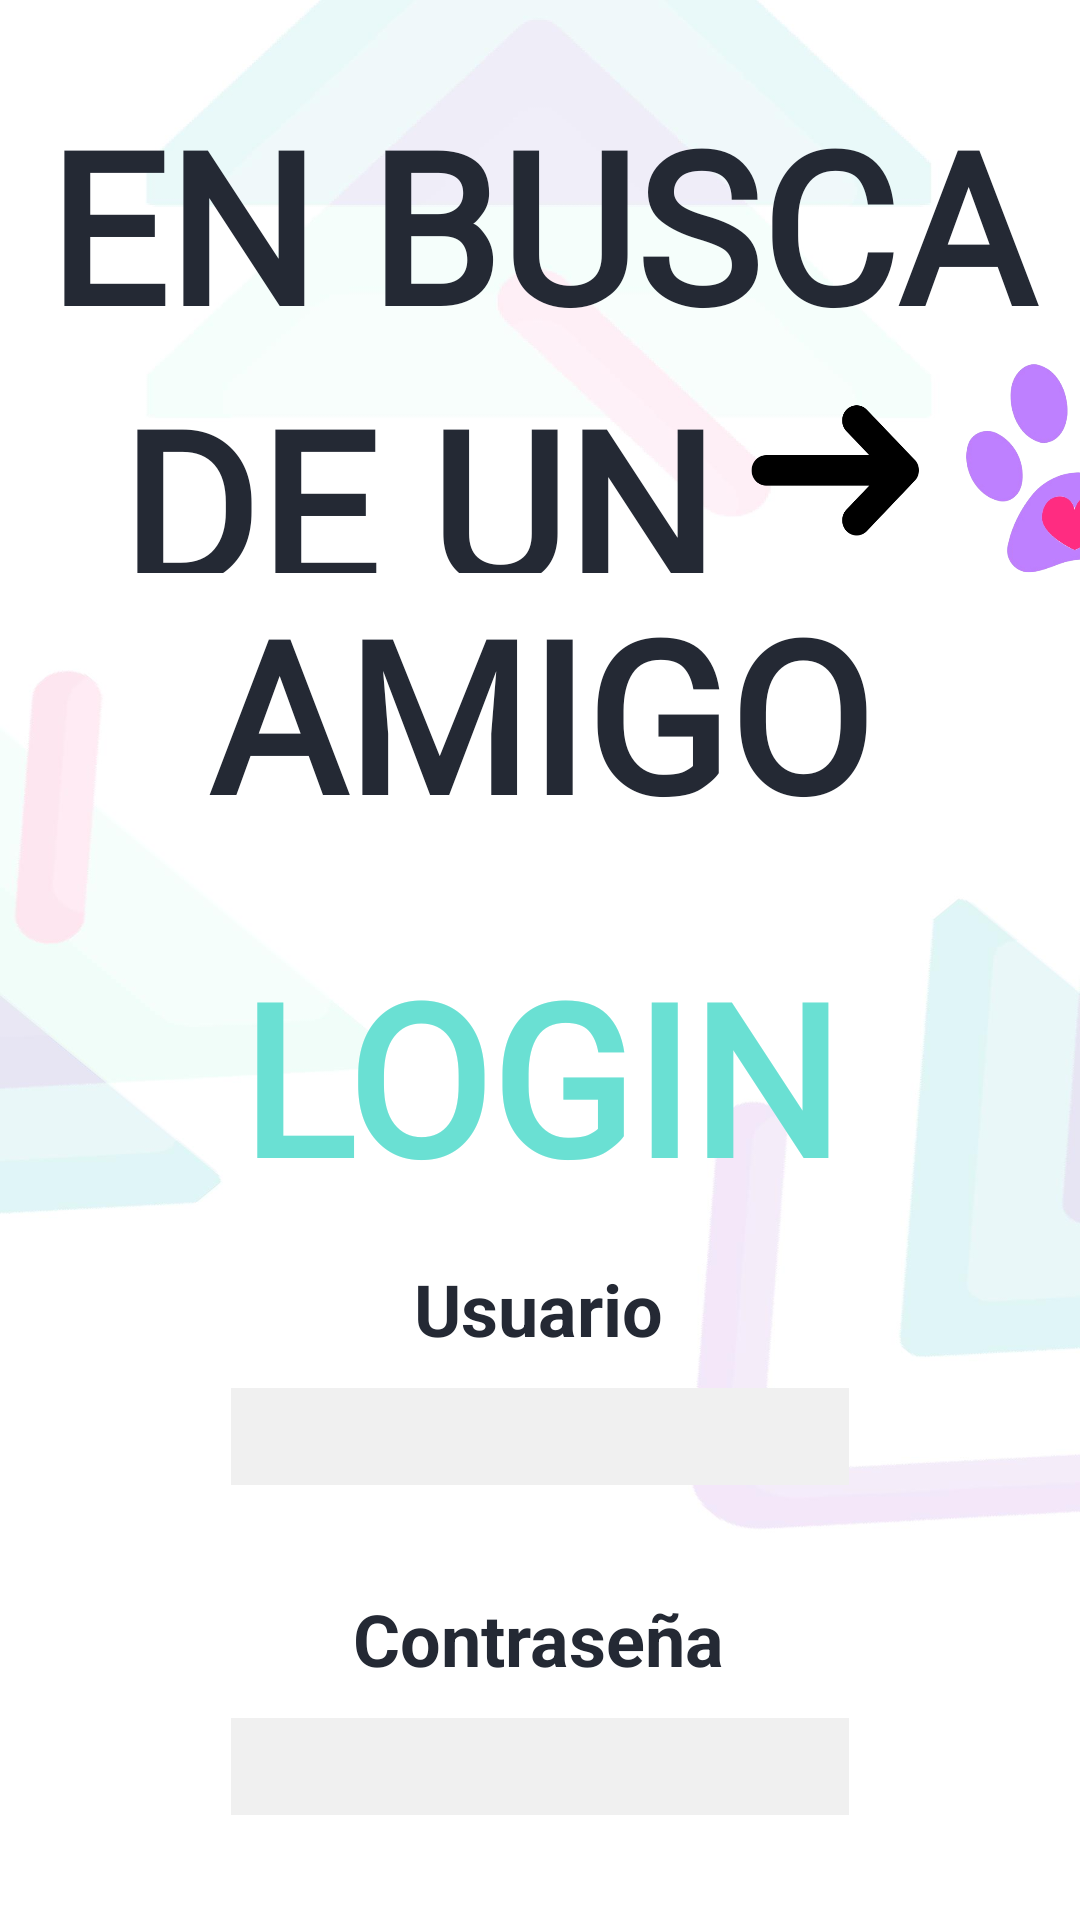

Named icons in this screenshot (1080 x 1920) and their centers, (x,y):
flecha: (835,470)
